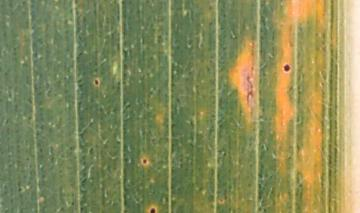tarspot: (282, 63, 292, 73), (94, 79, 100, 86), (142, 159, 148, 165), (150, 207, 156, 213)
